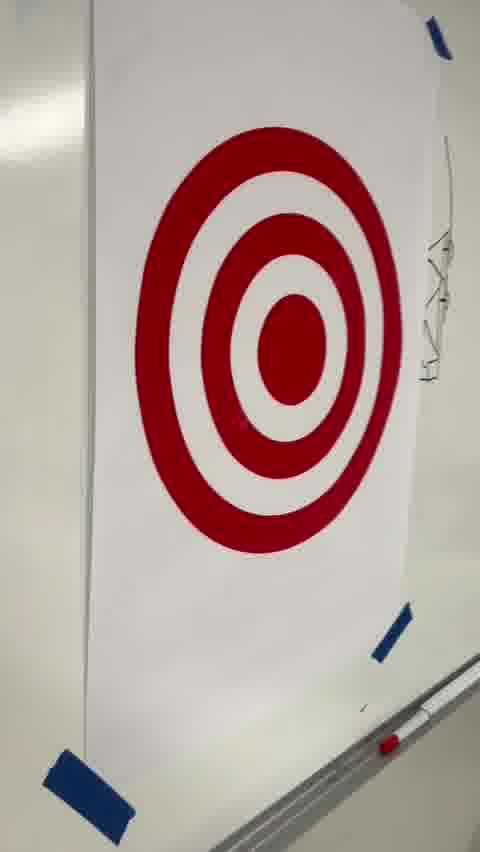target_red: (130, 127, 405, 554)
